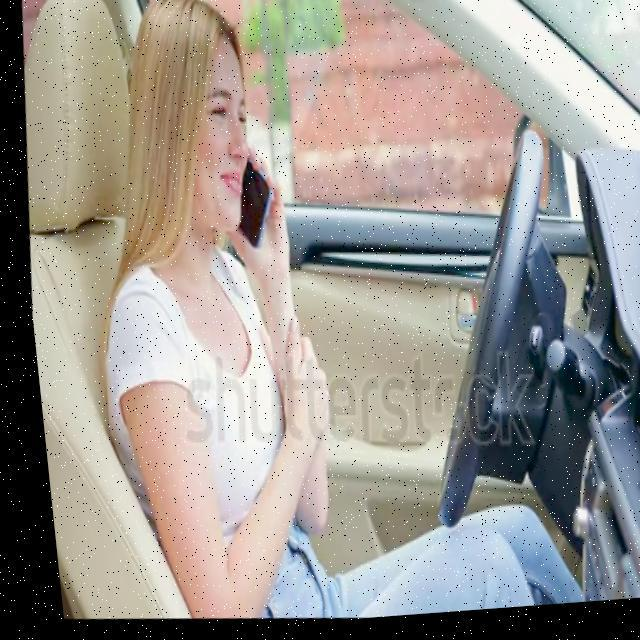PhoneCall: (221, 145, 275, 253)
